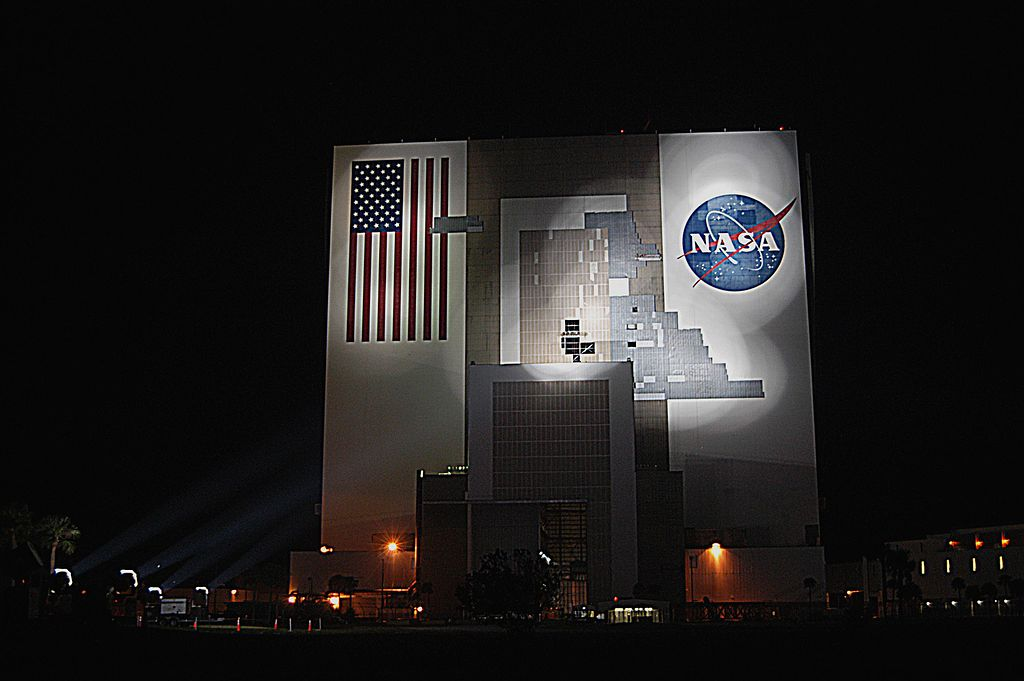NASA: (670, 187, 797, 298)
